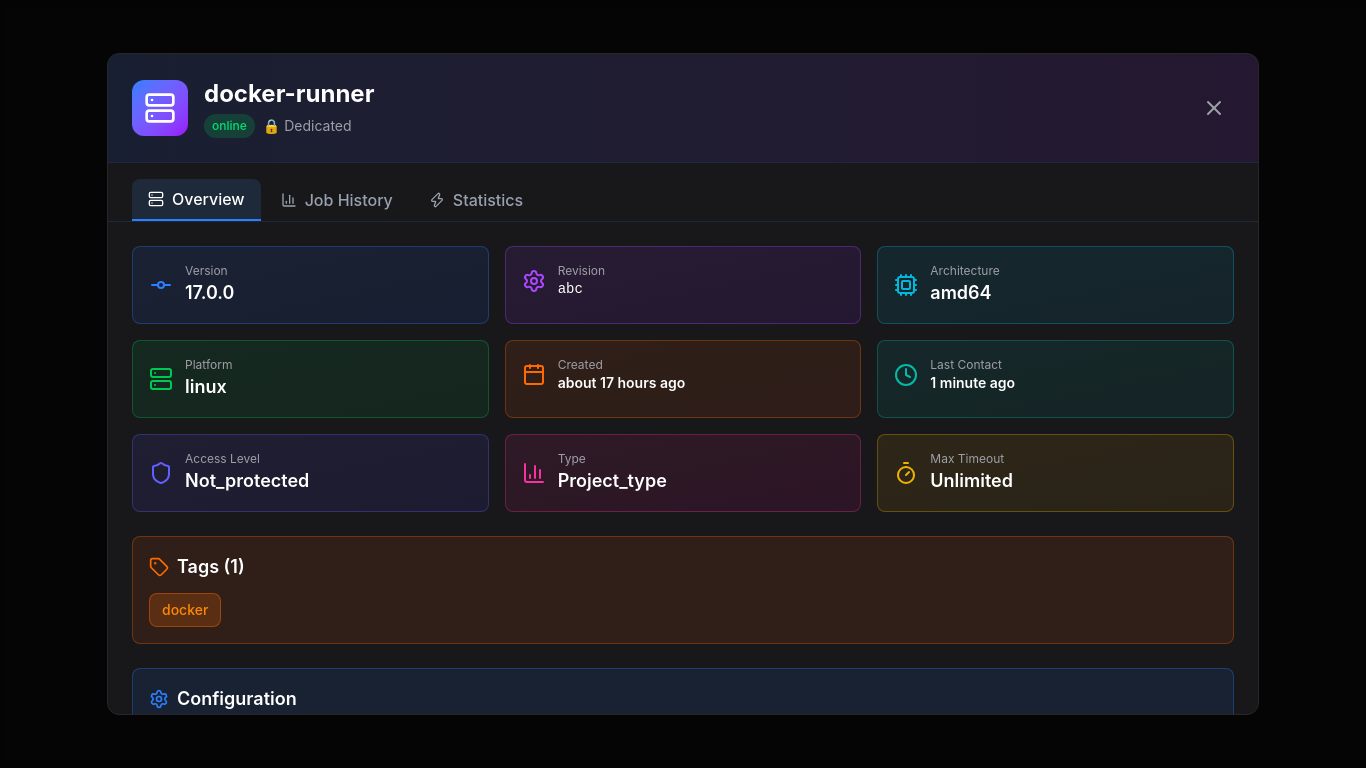
Test: RunnerDetailsModal › shows a spinner until the runner jobs are loaded
The width and height of the screenshot is (1366, 768).
What coordinates should you click on to do the following:
click the button "Job History"
I would click on:
 (337, 200)
Its box is [265, 179, 409, 221].
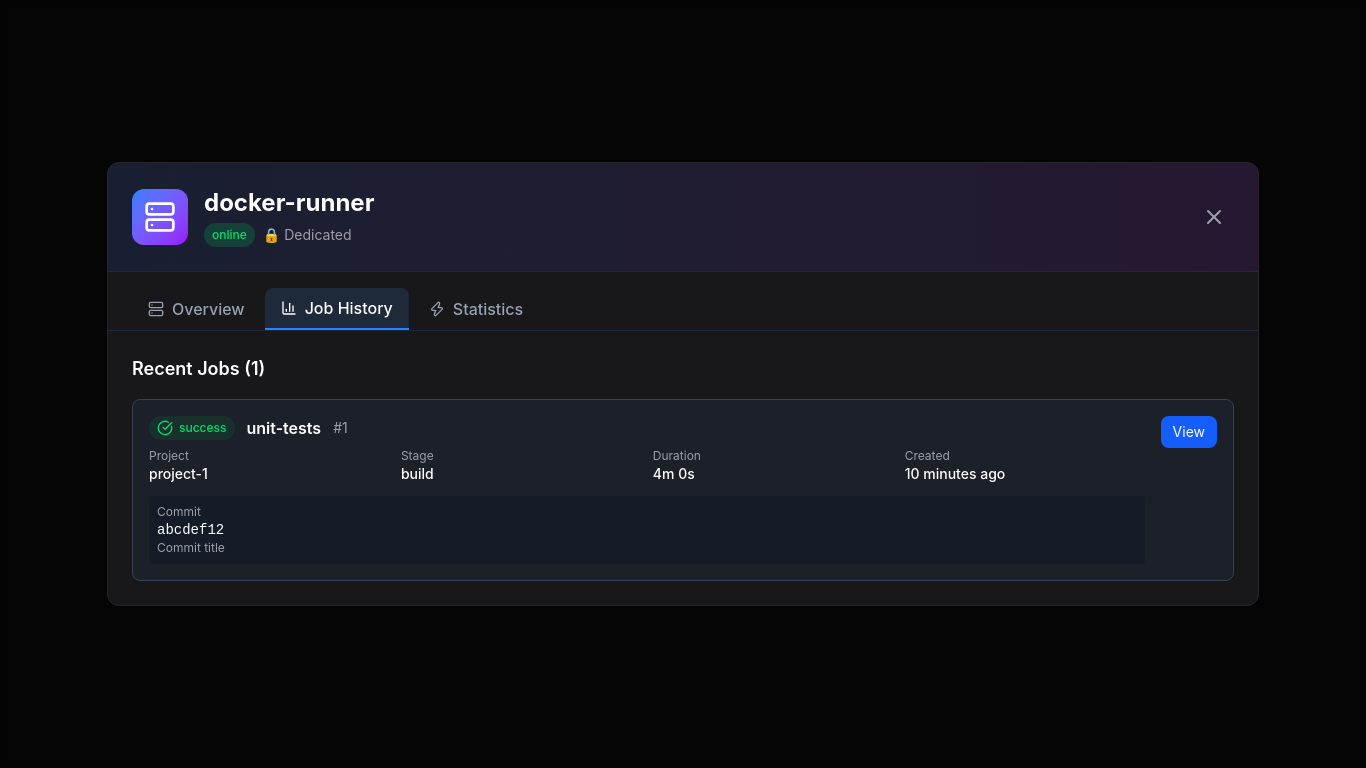
Result: the heading "Recent Jobs (1)" is shown at [132, 355, 265, 383]
Result: the text "unit-tests" is shown at [246, 416, 321, 440]
